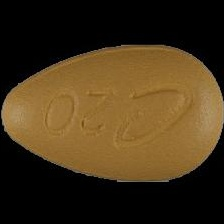54868-4968: (0, 0, 224, 224)
